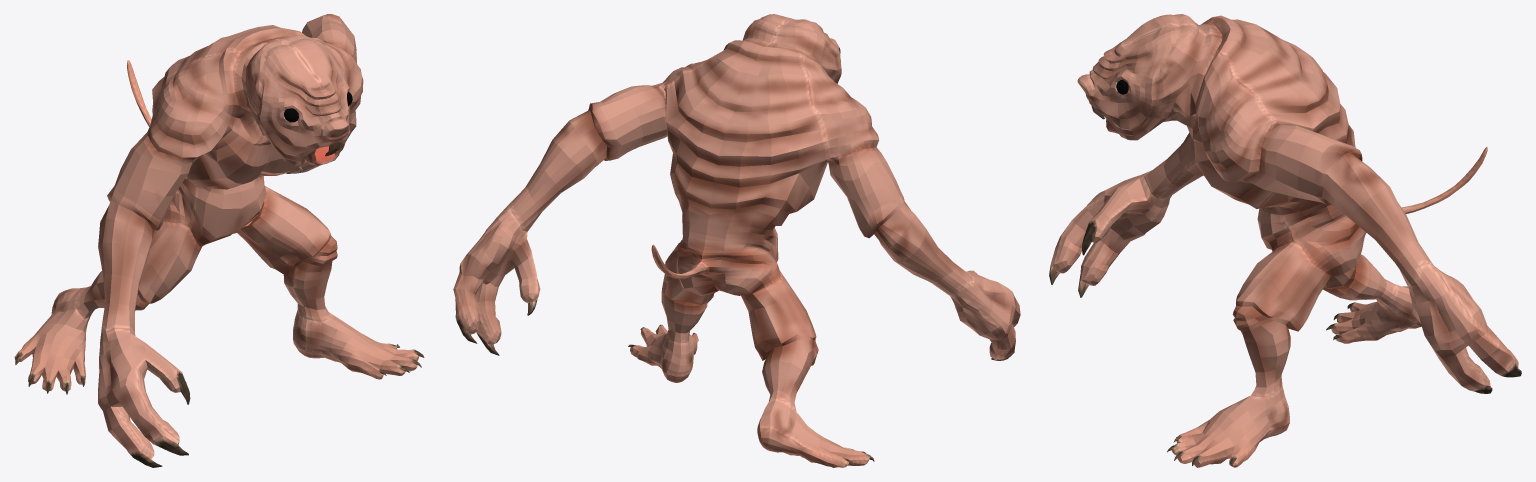
Rendered from molerat_noanim.fbx.
3 renders of one model, left to right at view 1: azimuth 30°, elevation 25°; view 2: azimuth 150°, elevation 25°; view 3: azimuth 270°, elevation 25°, orthographic. The views are drawn at different scales.
Visible parts, largest first — view 1: moleman; view 2: moleman; view 3: moleman.
Part boxes in pixels (<box>): moleman: <box>14,14,424,467</box>; moleman: <box>453,14,1020,467</box>; moleman: <box>1049,14,1521,467</box>.
Bounding box in the file's own units: 5.31 × 4.55 × 5.08.
